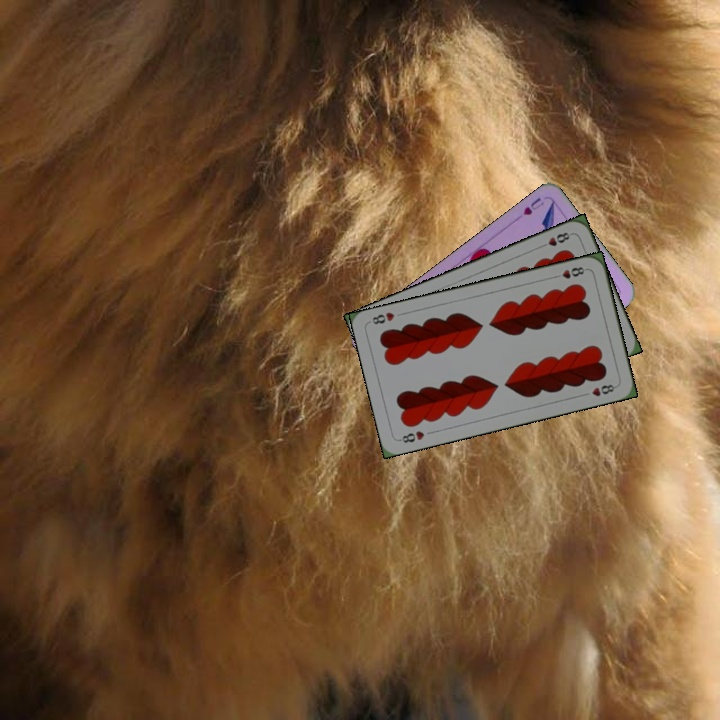H8: (536, 228, 575, 251), (549, 263, 589, 281), (395, 427, 427, 445)
HU: (519, 193, 546, 218)
